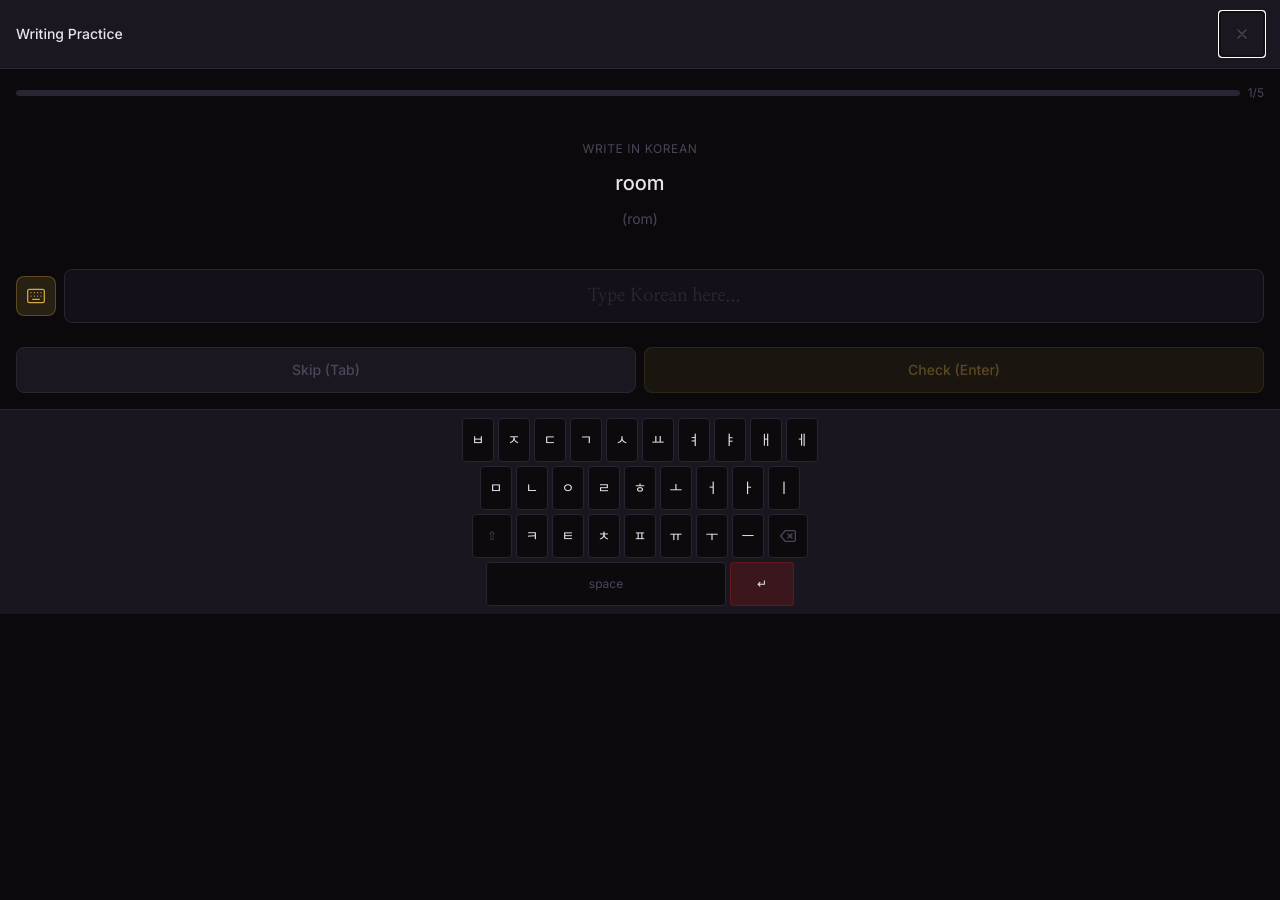
Test: WritingMode keyboard shortcuts › Tab skips the current word
Expected: the text "1/5" is shown, top-left (1248, 85), bottom-right (1264, 101)
// Click Skip (Tab) button to simulate Tab behavior
Click the button "Skip (Tab)" at [326, 370], box top-left (16, 347), bottom-right (636, 393)
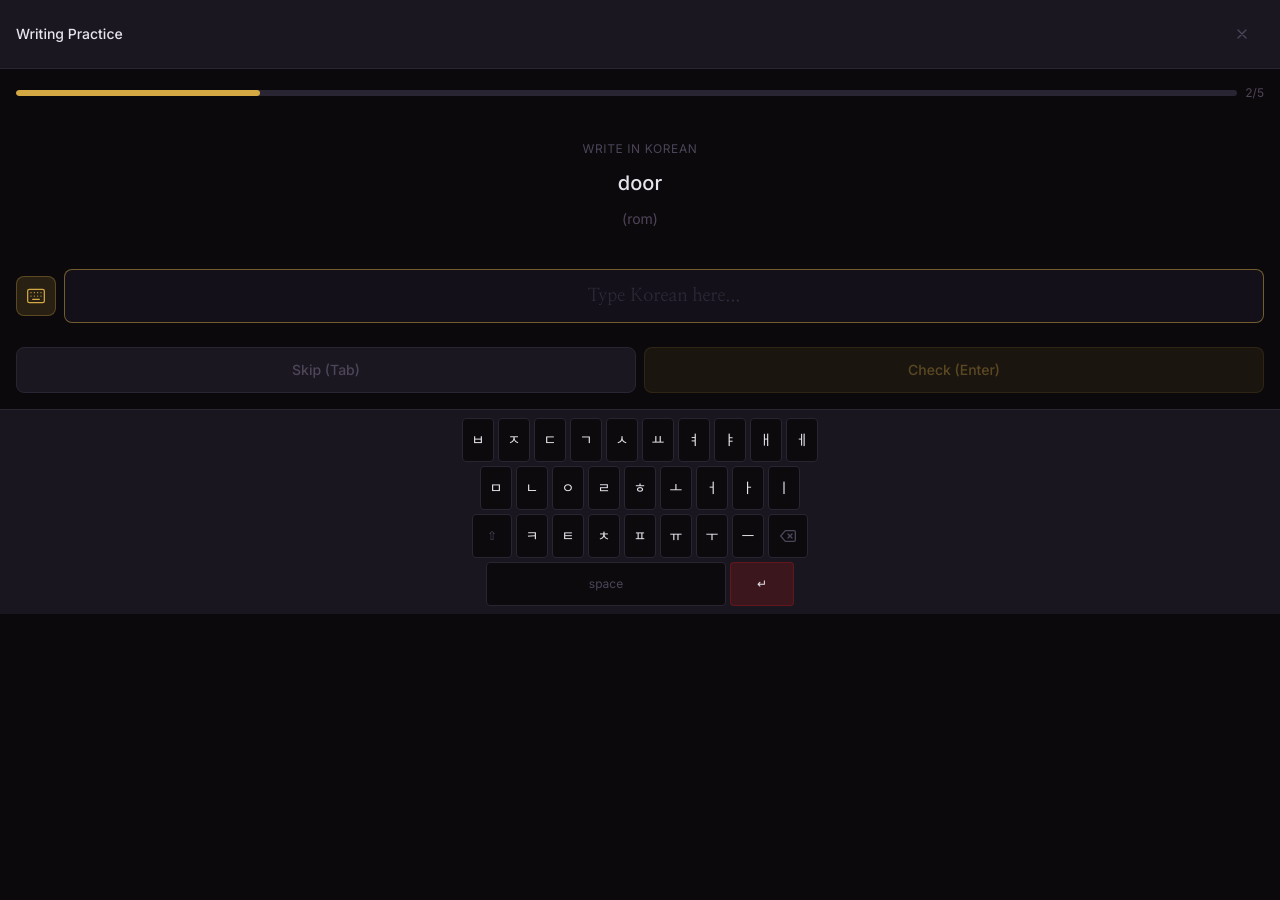
Expected: the text "2/5" is shown, top-left (1245, 85), bottom-right (1264, 101)
